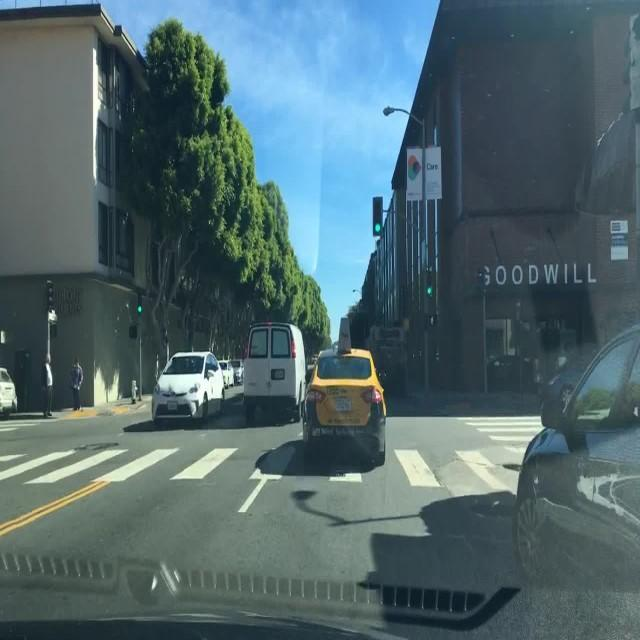normal: (115, 295, 429, 496)
